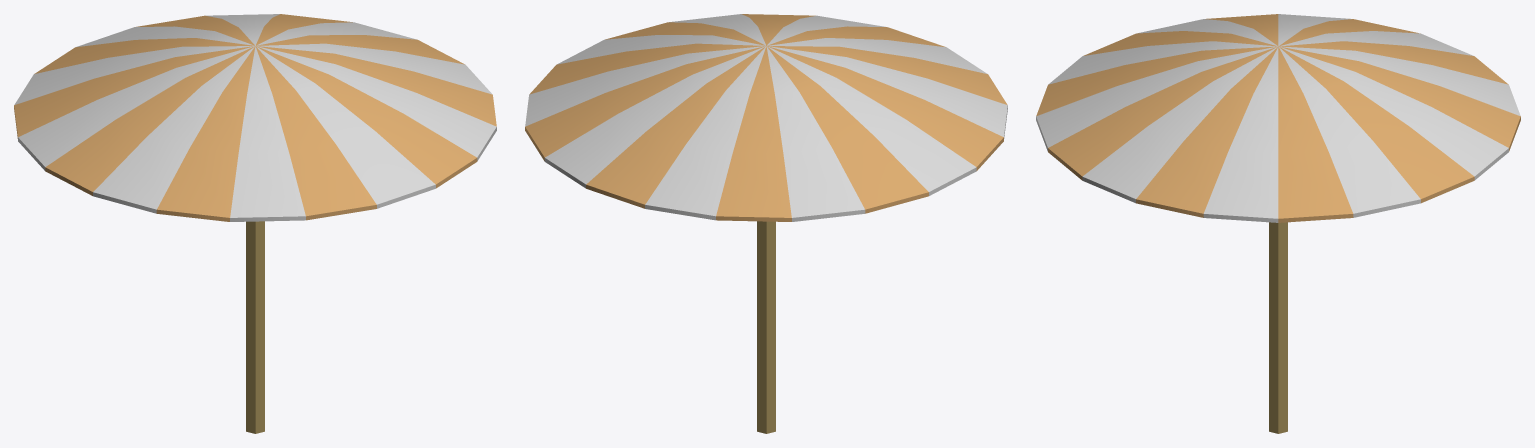
File: OrangeUmbrella.fbx
3 renders of one model, left to right at view 1: azimuth 30°, elevation 25°; view 2: azimuth 150°, elevation 25°; view 3: azimuth 270°, elevation 25°, orthographic.
Parts seen in each view (by area): view 1: pCylinder87; view 2: pCylinder87; view 3: pCylinder87.
Boxes of the visible parts, x1=… form: pCylinder87: x1=14, y1=14, x2=496, y2=433; pCylinder87: x1=525, y1=14, x2=1007, y2=433; pCylinder87: x1=1036, y1=14, x2=1520, y2=433.
Bounding box in the file's own units: 7.59 × 6.62 × 7.59.
